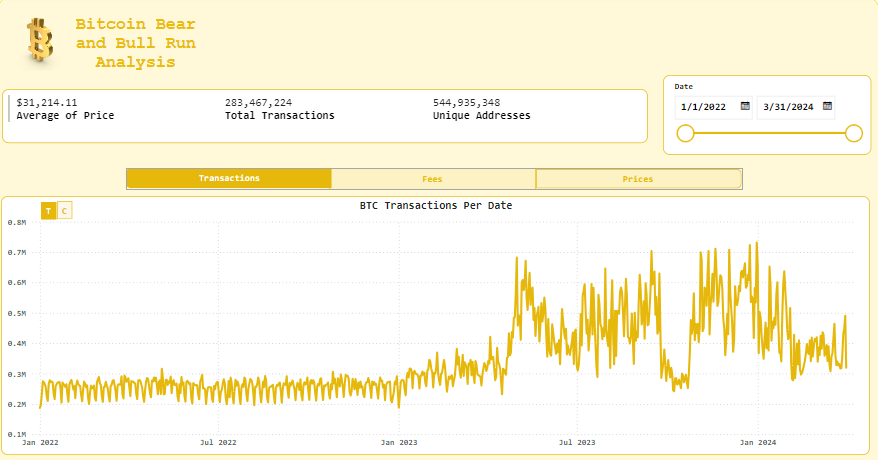

Layout of this report page (visuals, bound fields, positions):
{"tool":"powerbi","page":{"name":"Page 1","canvas":[1280,720],"ordinal":0},"visuals":[{"type":"group","id":"g1","title":"Background","box":[9.7,0,1270.3,719.8],"z":0},{"type":"image","box":[22.5,18,95.9,95.9],"z":0,"group":"g1"},{"type":"actionButton","title":"Transactions Off","box":[442.3,81,162.1,28.9],"z":0,"group":"g3"},{"type":"lineChart","title":"BTC Average Price Per Date","fields":{"Y":["Avg(Bitcoin_Clean_V1.Price)"],"Category":["Bitcoin_Clean_V1.Date"]},"box":[385.7,113.2,568.6,245.3],"z":0,"group":"g2"},{"type":"textbox","box":[103.7,22.6,212,91.3],"z":1000,"group":"g1"},{"type":"slicer","title":"Date","fields":{"Values":["Date Table.Date"]},"box":[971.4,237.5,299.2,122.1],"z":1000},{"type":"actionButton","title":"Prices On","box":[765.5,81,163.1,28.5],"z":1250,"group":"g3"},{"type":"actionButton","title":"Fees Off","box":[602.4,79.9,163.1,29.7],"z":1750,"group":"g3"},{"type":"shape","box":[9.7,0,1270.3,719.8],"z":2000,"group":"g1"},{"type":"group","id":"g2","title":"Line Charts","box":[385,79.9,569.2,278.6],"z":2000},{"type":"group","id":"g3","title":"Toggles","box":[442.3,79.9,486.4,30],"z":2000,"group":"g2"},{"type":"multiRowCard","title":"Card View","fields":{"Values":["Avg(Bitcoin_Clean_V1.Price)","Sum(Bitcoin_Clean_V1.Transaction_count)","Sum(Bitcoin_Clean_V1.Unique_addresses)"]},"box":[14.8,114,205.3,246.9],"z":3000}]}

Visuals, with their boxes on the page's 1280x720 design canvas (x1, y1, x2, y2). These are canvas units, not pixel positions in the 878x460 screenshot, which may show the page scaled, cropped or inside an application window:
"Background" group: select_region(10, 0, 1280, 720)
image: select_region(22, 18, 118, 114)
"Transactions Off" actionButton: select_region(442, 81, 604, 110)
"BTC Average Price Per Date" lineChart: select_region(386, 113, 954, 358)
textbox: select_region(104, 23, 316, 114)
"Date" slicer: select_region(971, 238, 1271, 360)
"Prices On" actionButton: select_region(766, 81, 929, 110)
"Fees Off" actionButton: select_region(602, 80, 766, 110)
shape: select_region(10, 0, 1280, 720)
"Line Charts" group: select_region(385, 80, 954, 358)
"Toggles" group: select_region(442, 80, 929, 110)
"Card View" multiRowCard: select_region(15, 114, 220, 361)
